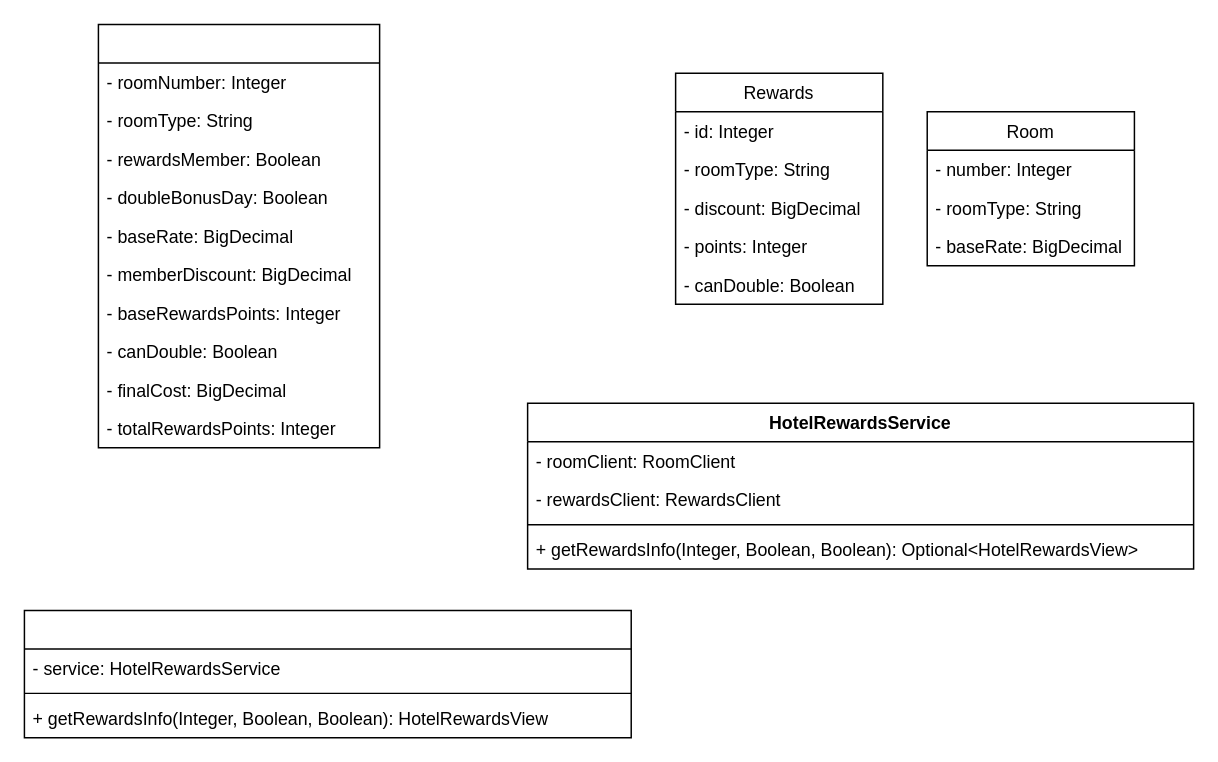
Image size: 1218x762. Some labels were removed from this diagram. Each missing label, with the box of its shape:
HotelRewardsController: (23, 609, 631, 738)
HotelRewardsView: (97, 23, 380, 448)
